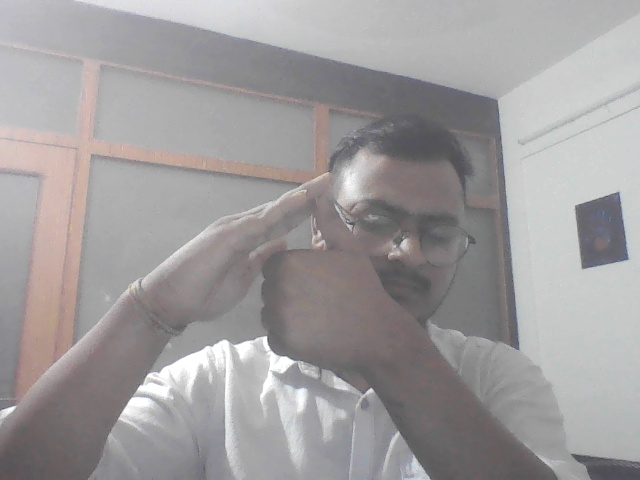I Feel You: (174, 172, 377, 388)
